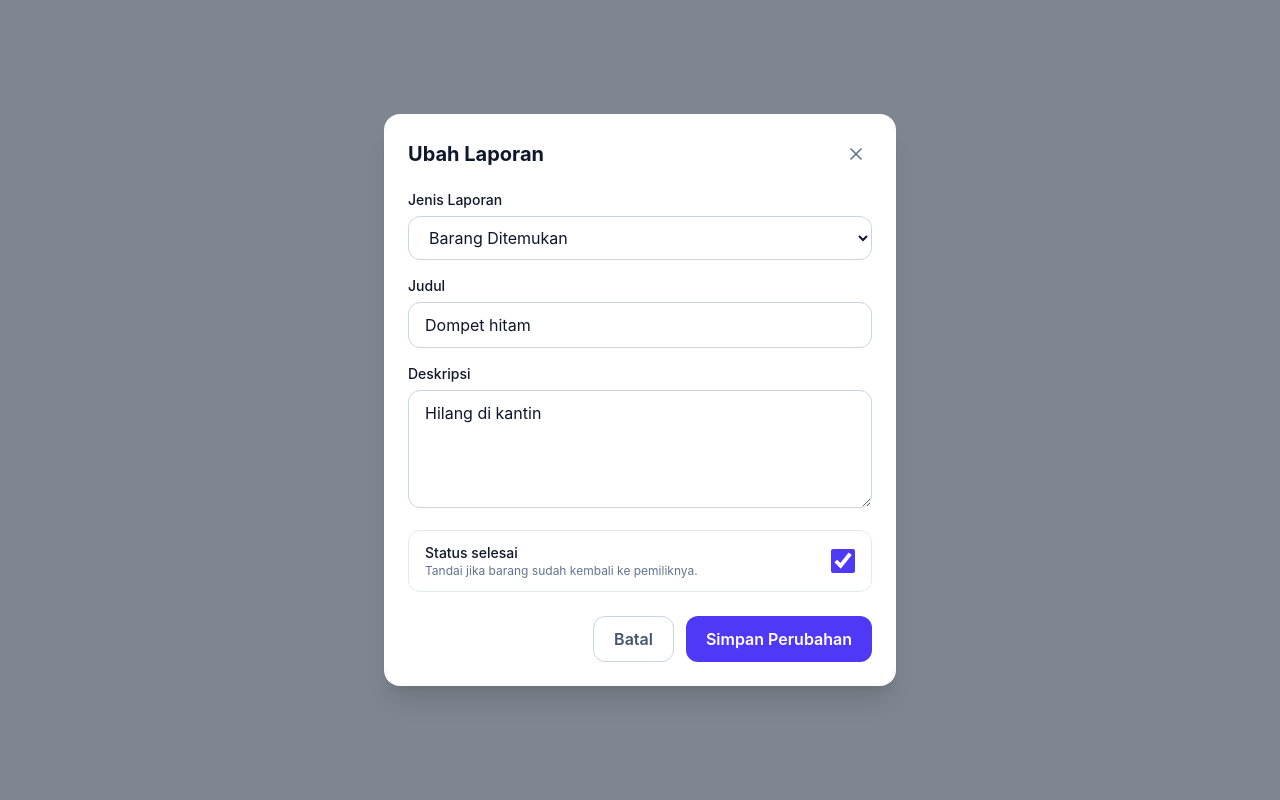
Test: ChangeModal › validasi › hanya menampilkan pesan untuk isian yang kosong
Clear the text box labelled "Deskripsi": (640, 449) [408,390,872,508]
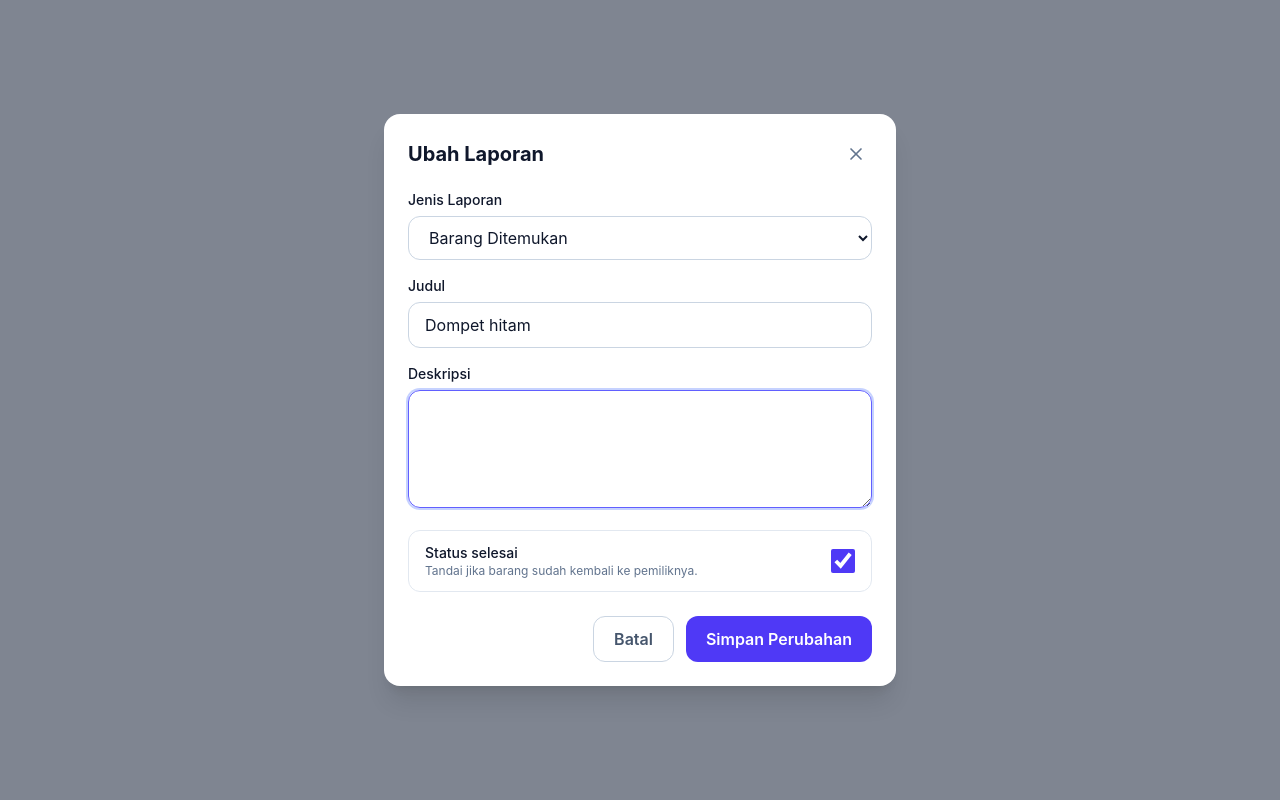
Click the button "Simpan Perubahan": (779, 639) [686,616,872,662]
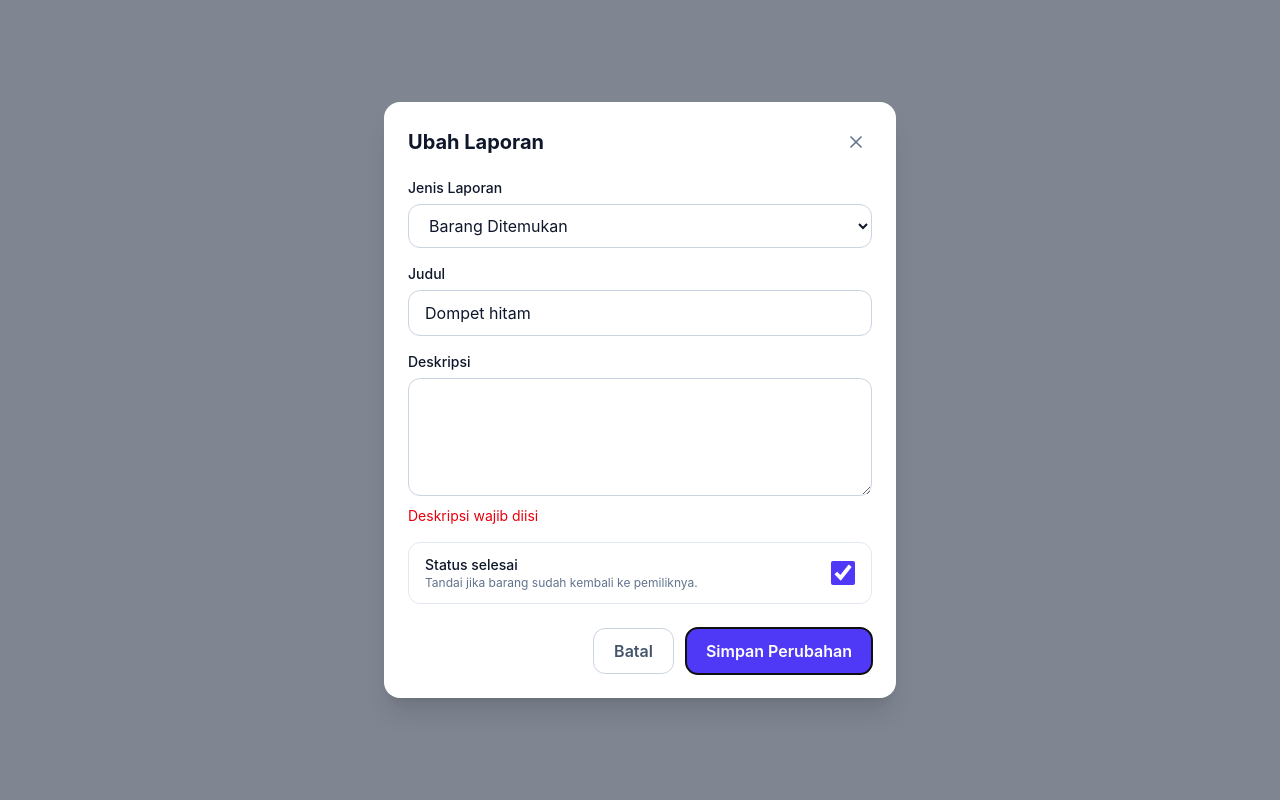
Now the text "Deskripsi wajib diisi" is shown, box [408,507,538,524]
